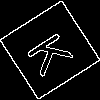K: (25, 25, 82, 79)
